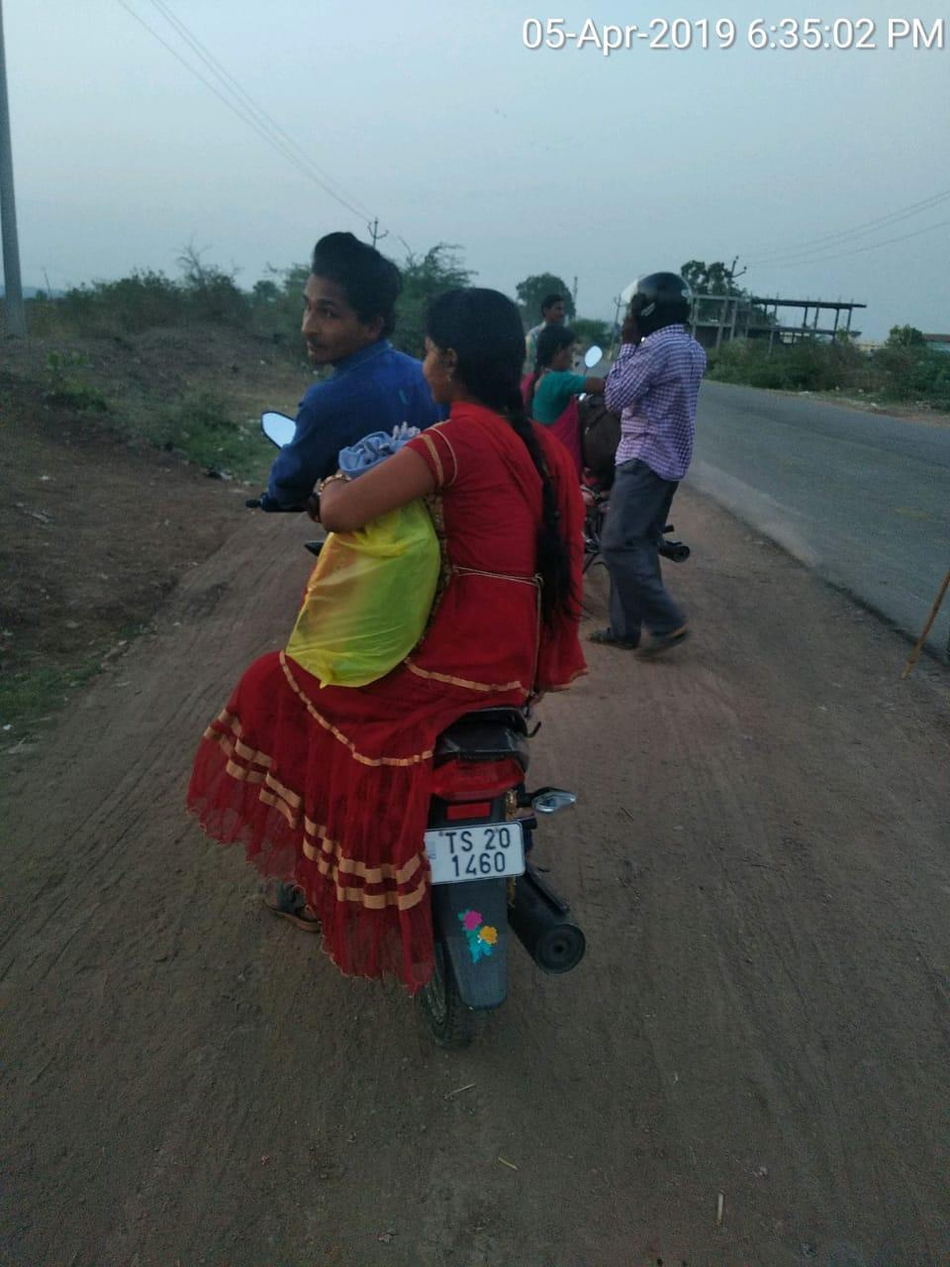plate: (401, 810, 539, 906)
